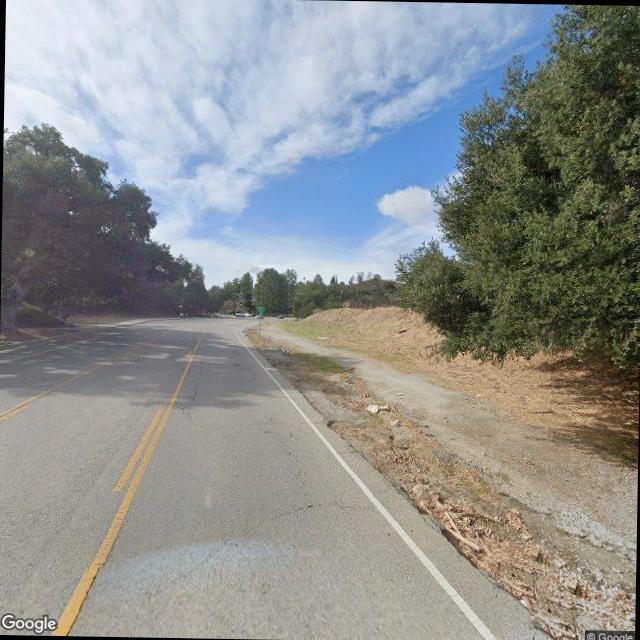crack: (235, 496, 364, 536)
